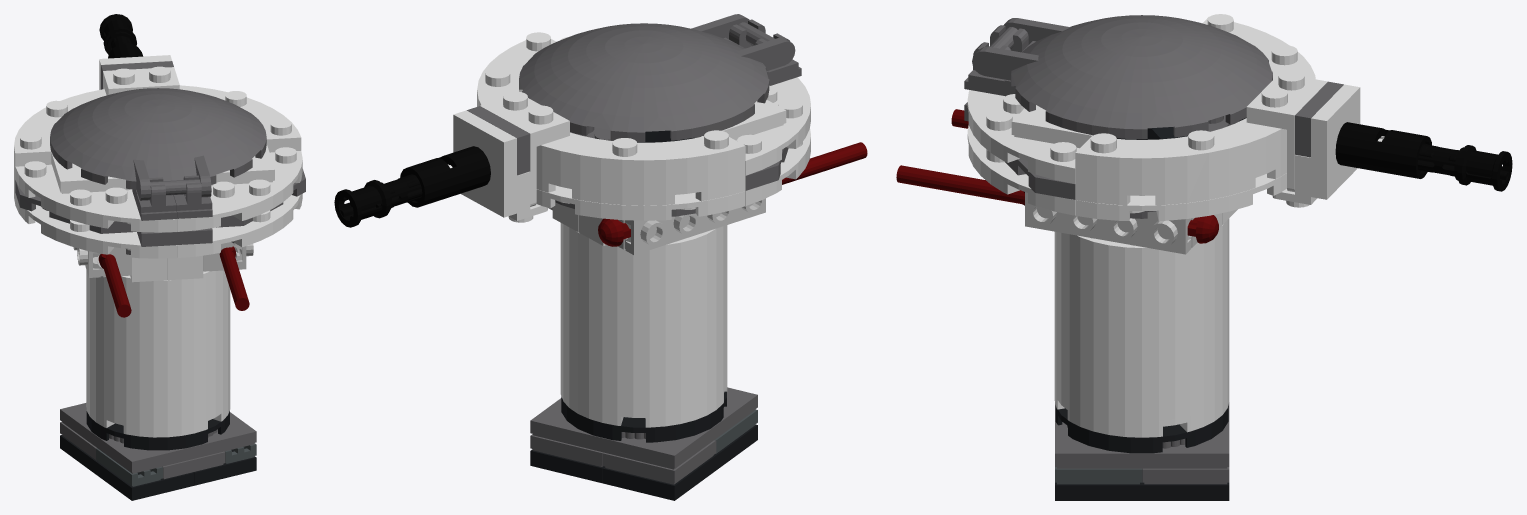
Rendered from Tower1 oben und unten.FBX.
The picture shows the model from 3 angles, left to right: view 1: azimuth 30°, elevation 25°; view 2: azimuth 150°, elevation 25°; view 3: azimuth 270°, elevation 25°; orthographic projection. The views are drawn at different scales.
Parts seen in each view (by area): view 1: oben, unten; view 2: oben, unten; view 3: oben, unten.
Boxes of the visible parts, x1,y1,x2,y2 form: oben: [14, 14, 305, 317]; unten: [60, 270, 256, 500]; oben: [334, 14, 867, 254]; unten: [530, 223, 757, 500]; oben: [896, 14, 1512, 254]; unten: [1054, 218, 1229, 500].
Bounding box in the file's own units: 2.54 × 3.41 × 4.45.
